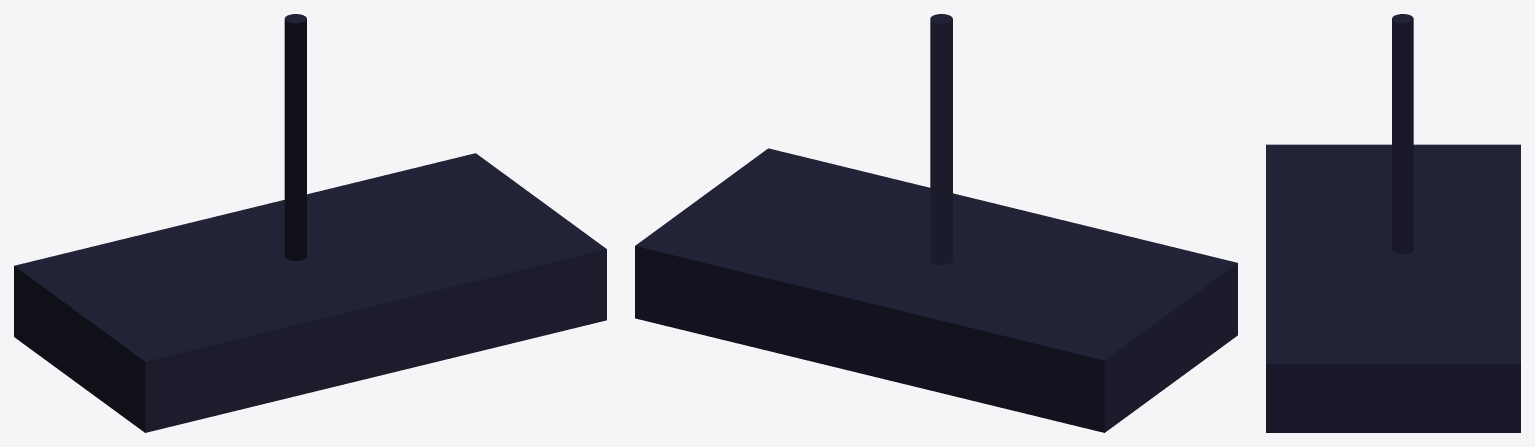
3 renders of one model, left to right at view 1: azimuth 30°, elevation 25°; view 2: azimuth 150°, elevation 25°; view 3: azimuth 270°, elevation 25°, orthographic. The views are drawn at different scales.
Parts seen in each view (by area): view 1: node0; view 2: node0; view 3: node0.
Boxes of the visible parts, <box> form: node0: <box>14,14,606,432</box>; node0: <box>635,14,1237,432</box>; node0: <box>1266,14,1520,432</box>.
Size of the model in its own units: 610 by 300 by 390.
